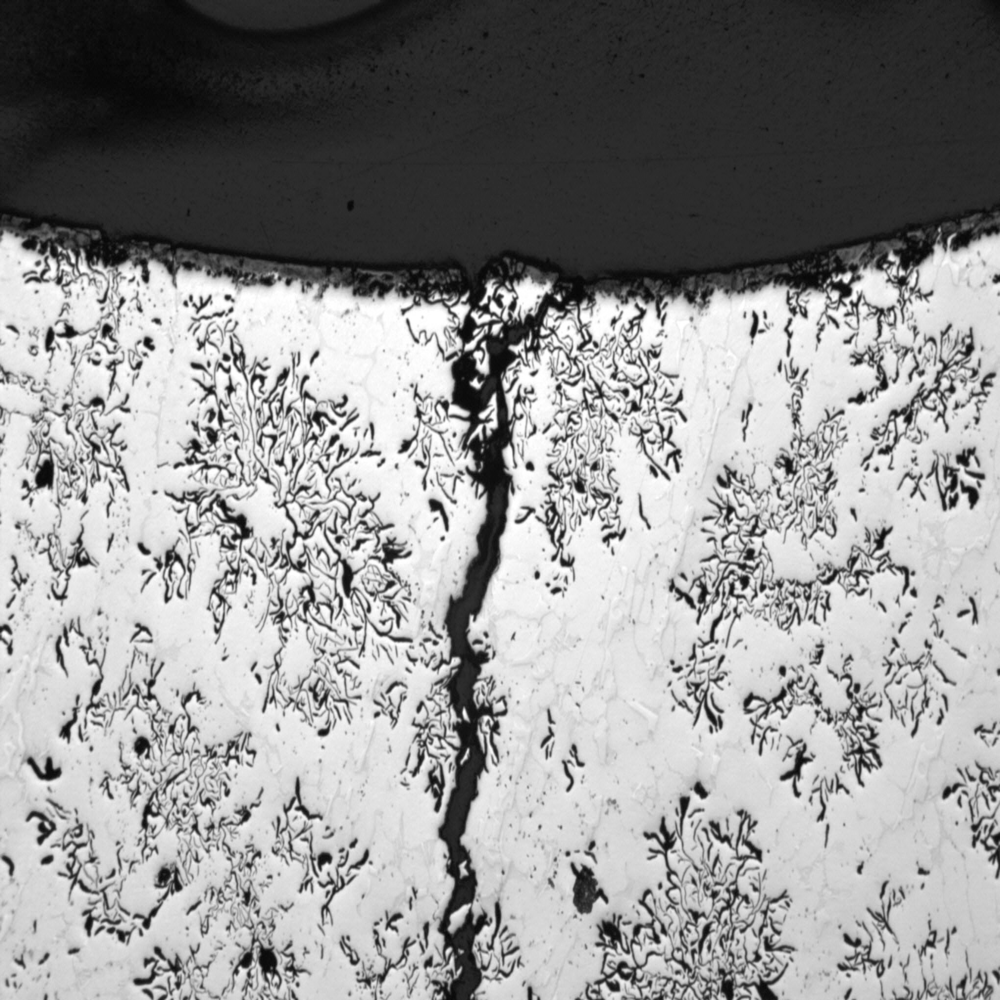crack: (551, 210, 1000, 1000), (4, 212, 415, 978), (391, 243, 585, 1000)
